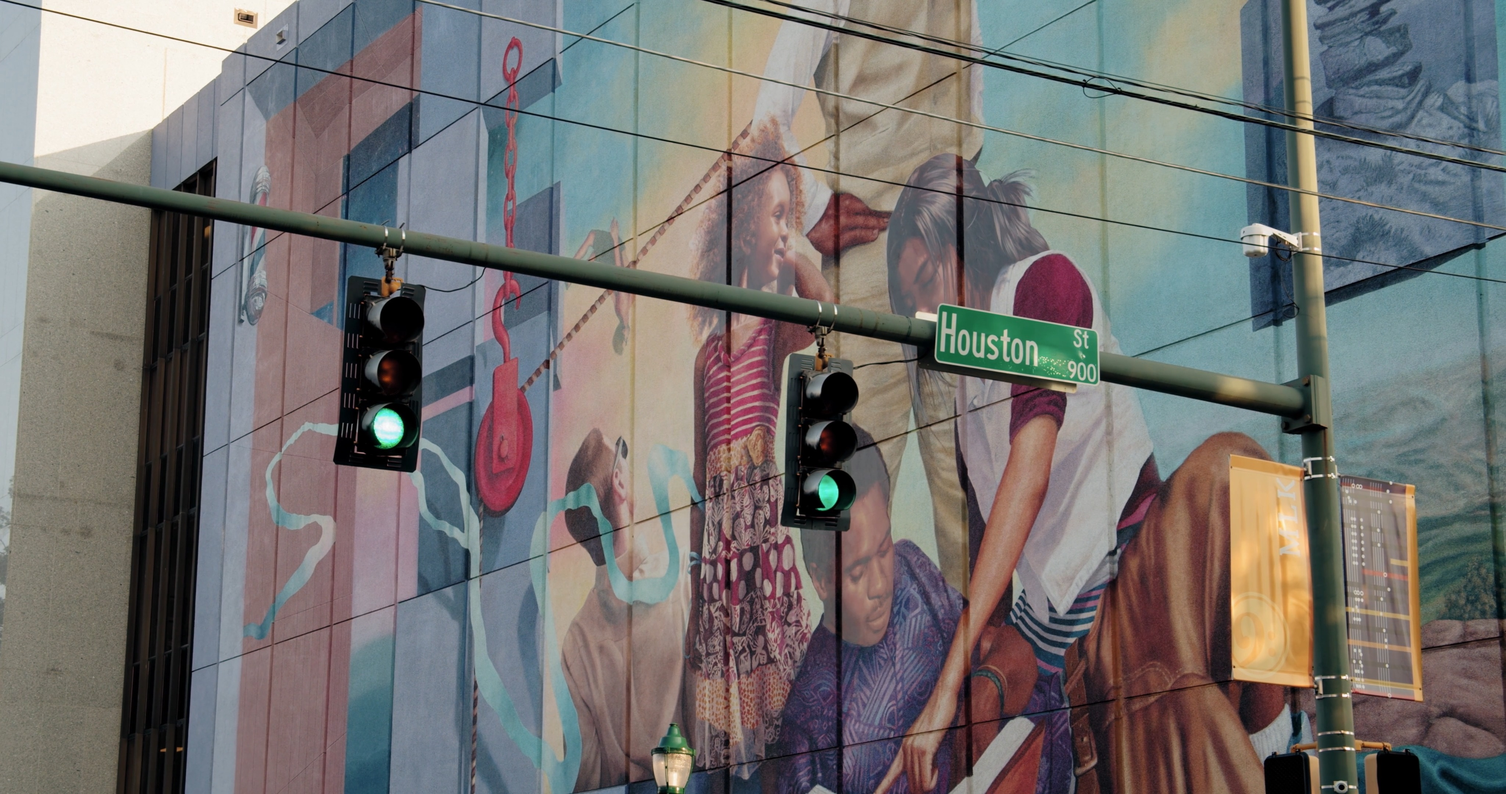green traffic light: (335, 265, 430, 478), (787, 333, 865, 551)
